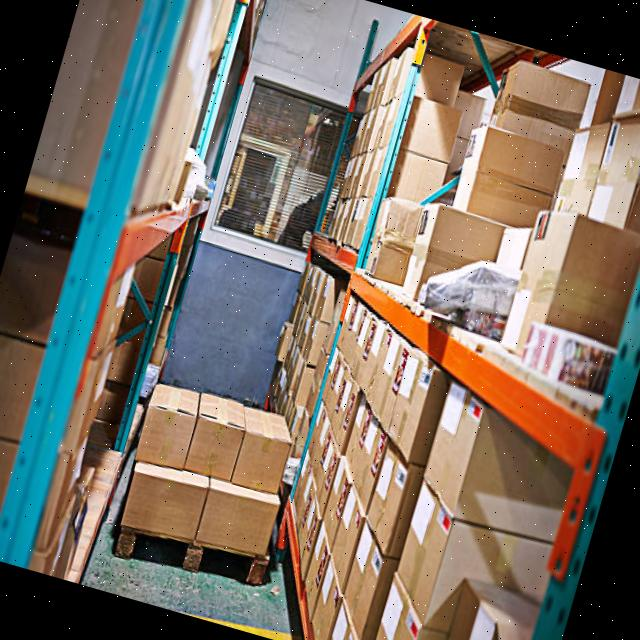Wooden-Pallets: (105, 523, 274, 590)
